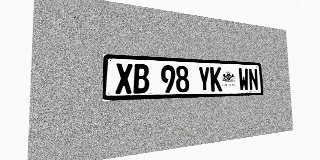8: (175, 65, 189, 92)
9: (161, 65, 176, 93)
B: (133, 64, 149, 93)
K: (210, 67, 222, 92)
N: (248, 68, 258, 91)
W: (238, 68, 249, 91)
X: (115, 63, 133, 94)
Y: (198, 66, 210, 92)
